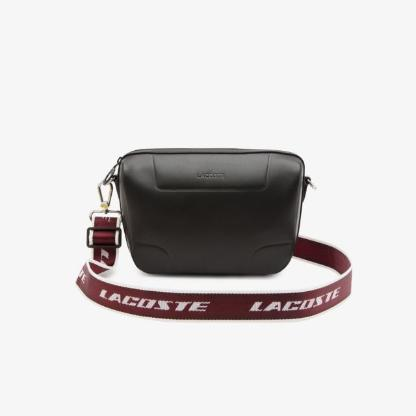bag: (72, 141, 357, 328)
